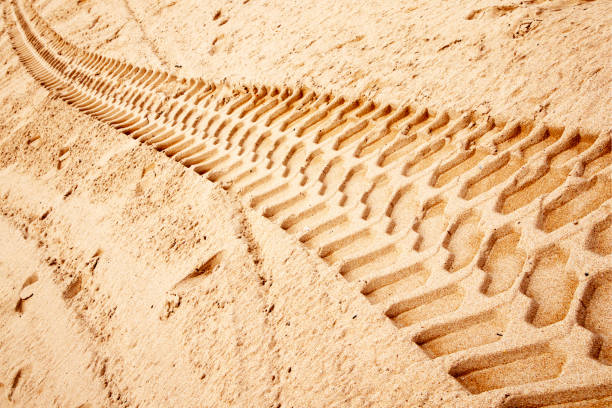vehicle_track: (5, 1, 611, 405)
